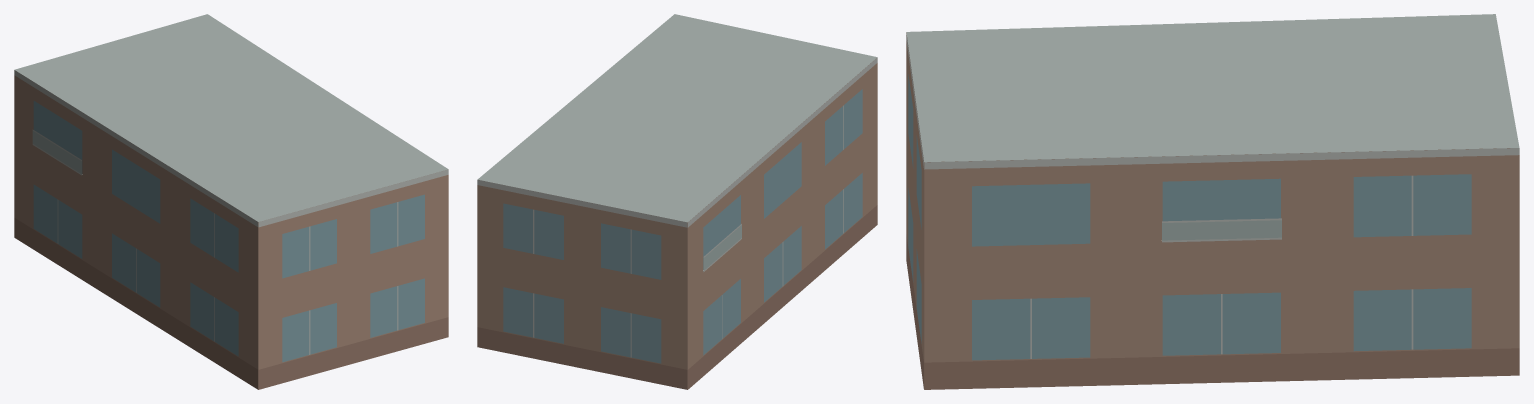
Rendered from survey-upis-32739906.glb.
The picture shows the model from 3 angles, left to right: view 1: azimuth 30°, elevation 25°; view 2: azimuth 150°, elevation 25°; view 3: azimuth 270°, elevation 25°; orthographic projection. The views are drawn at different scales.
Visible parts, largest first — view 1: survey-upis-32739906.tmp; view 2: survey-upis-32739906.tmp; view 3: survey-upis-32739906.tmp.
Boxes of the visible parts, x1,y1,x2,y2 form: survey-upis-32739906.tmp: (14, 14, 448, 389); survey-upis-32739906.tmp: (477, 14, 877, 389); survey-upis-32739906.tmp: (906, 14, 1519, 389).
Size of the model in its own units: 10.62 by 7.6 by 18.56.
